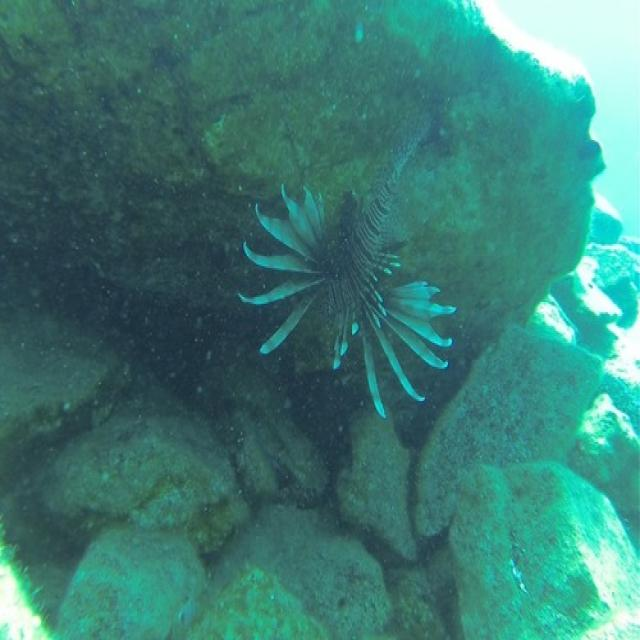Aslan Baligi: (237, 99, 467, 417)
